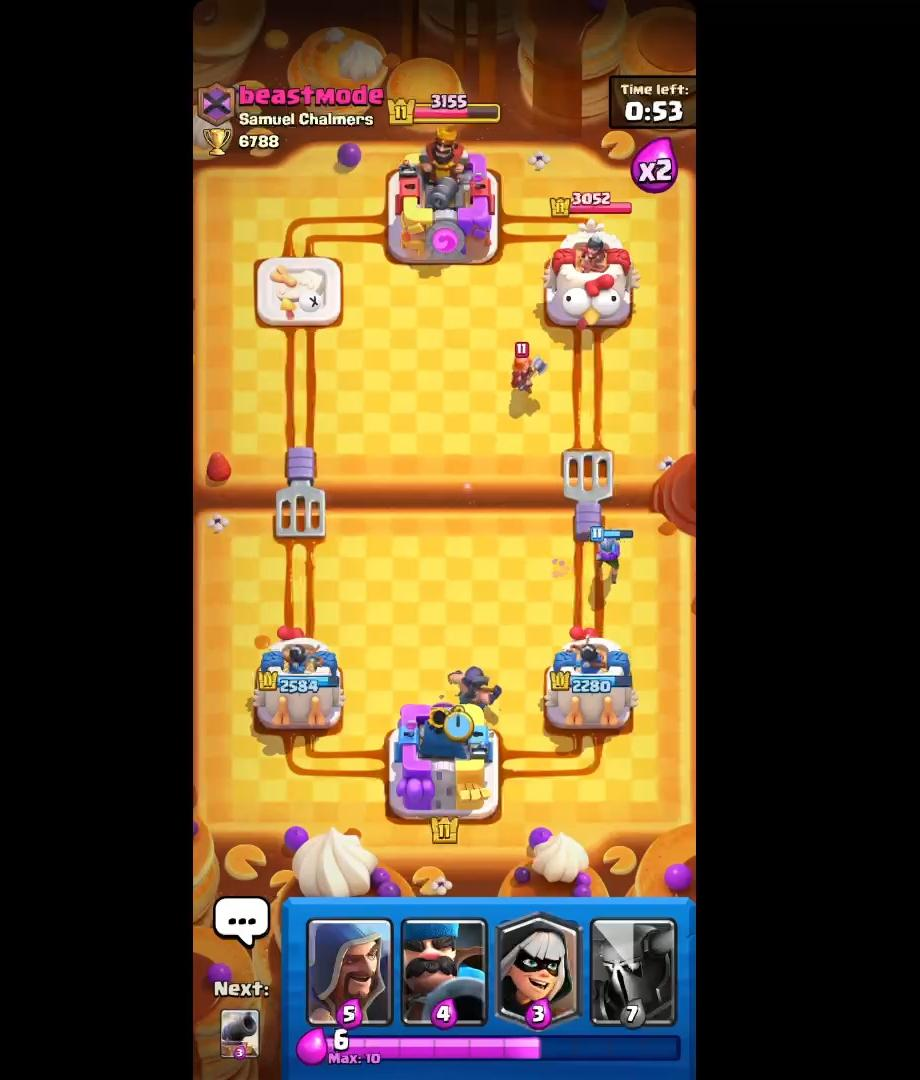Valkyrie: (506, 335, 557, 398)
